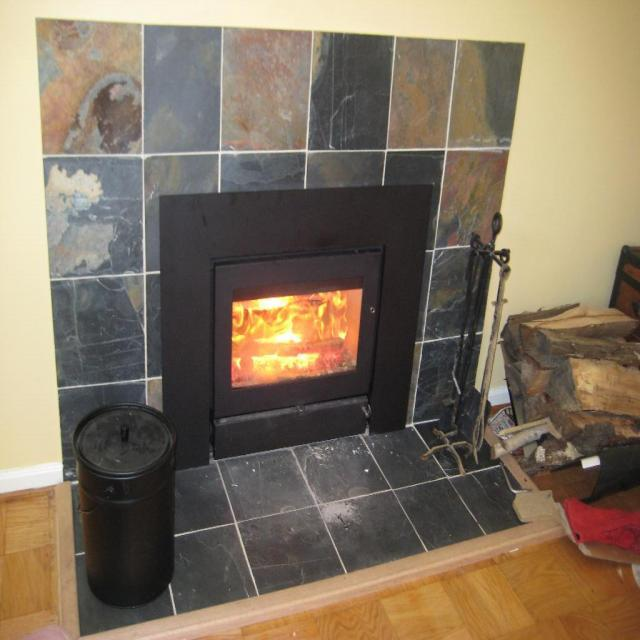Fire: (236, 298, 350, 372)
